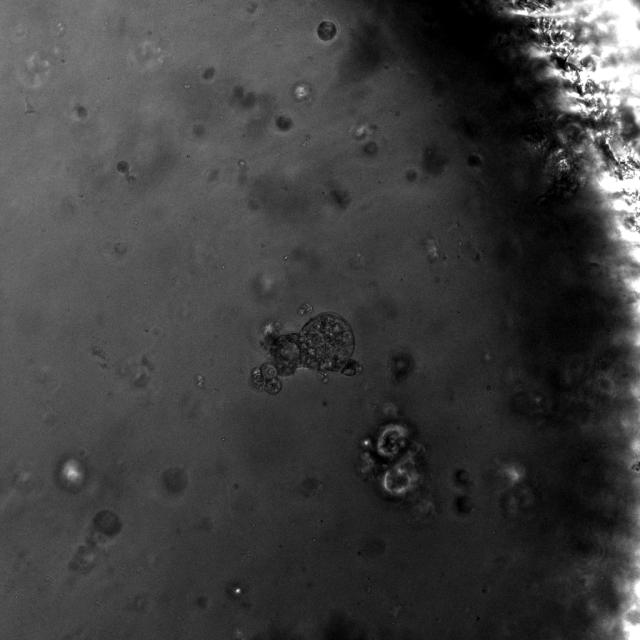organoid: (252, 312, 360, 392), (356, 420, 434, 519), (452, 468, 475, 516), (94, 509, 121, 537), (162, 467, 188, 493), (232, 86, 256, 109), (318, 20, 336, 41), (361, 139, 378, 157), (276, 115, 292, 131), (201, 65, 215, 83), (467, 153, 482, 167), (116, 160, 128, 173), (76, 105, 87, 118), (405, 169, 416, 181)
